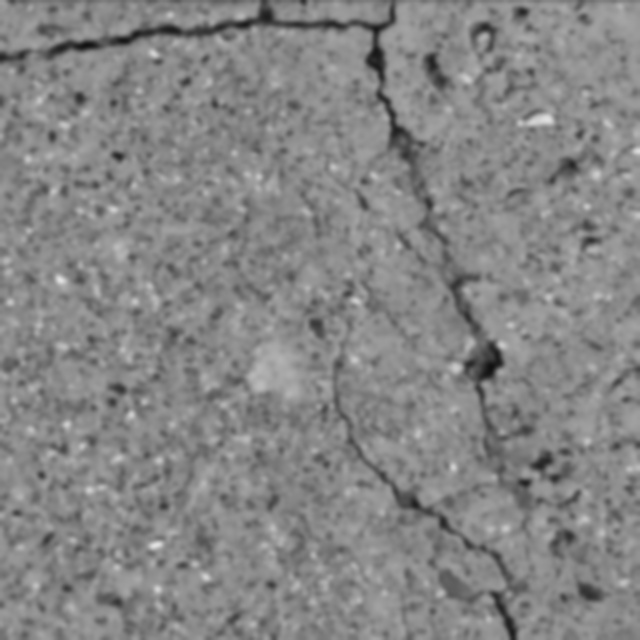SurfaceCrack: (313, 0, 537, 640), (0, 1, 410, 109)
